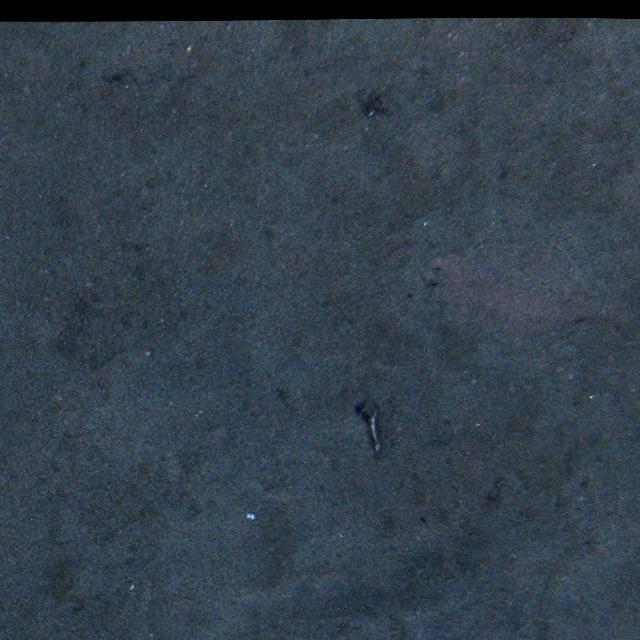flatfish: (404, 219, 640, 343)
